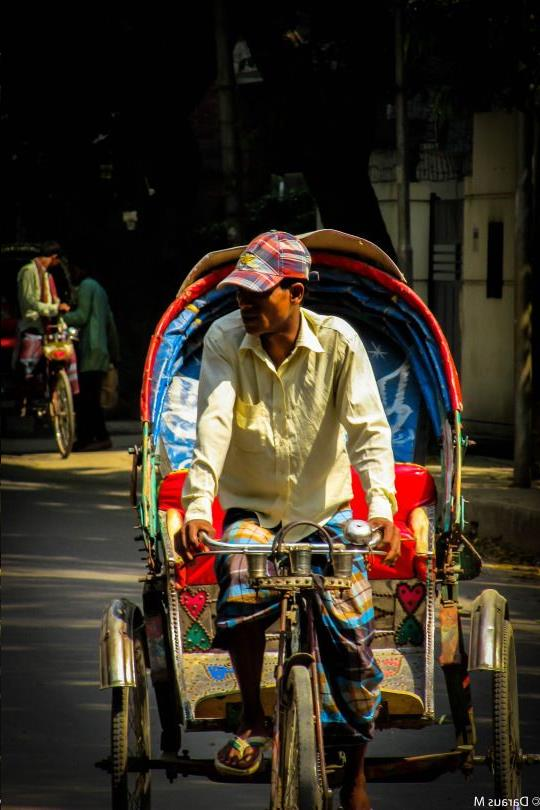Rickshaw: (83, 185, 517, 806), (2, 231, 115, 459)
